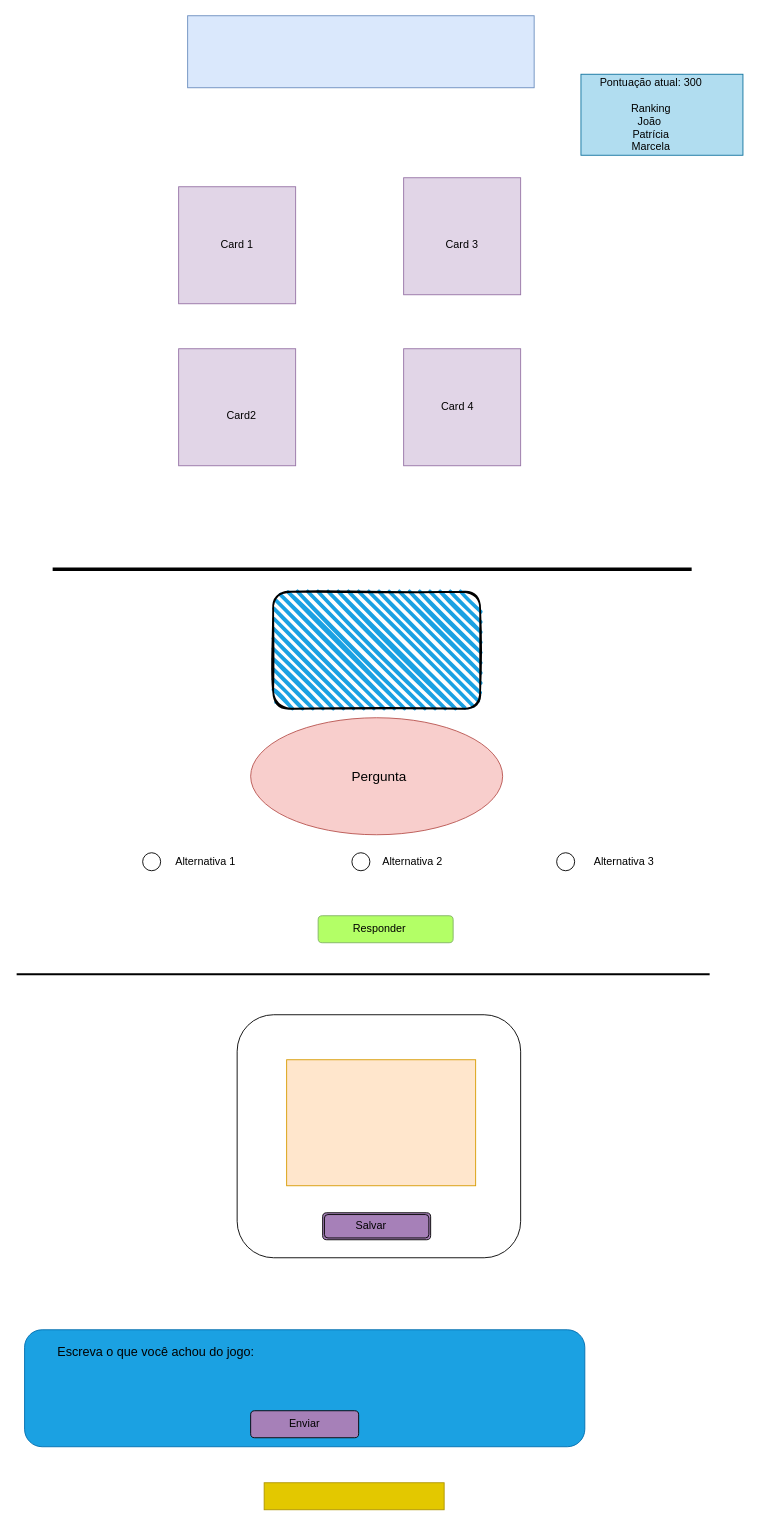
This 759x1526 diagram has some shape labels left out. Here are the shapes that lost their labels. From the top down, the centre of each, then its label:
At [360,51]: "Jogo Perguntas e respostas".
At [376,649]: "Imagem".
At [381,1122]: "Parabéns! Você finalizou o jogo! Sua pontuação é de 1000 pontos!".
At [353,1496]: "Recomeçar o Jogo".
